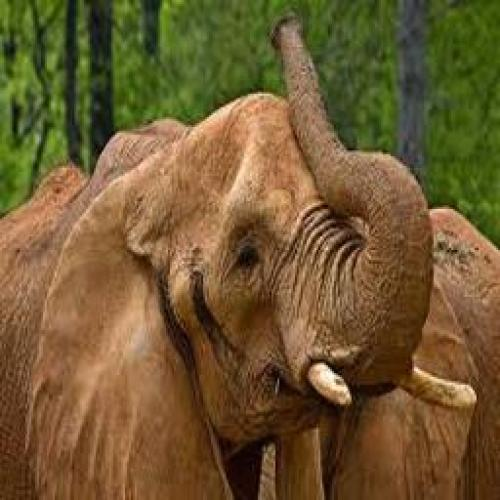african_elephant-endangered: (9, 17, 480, 494)
